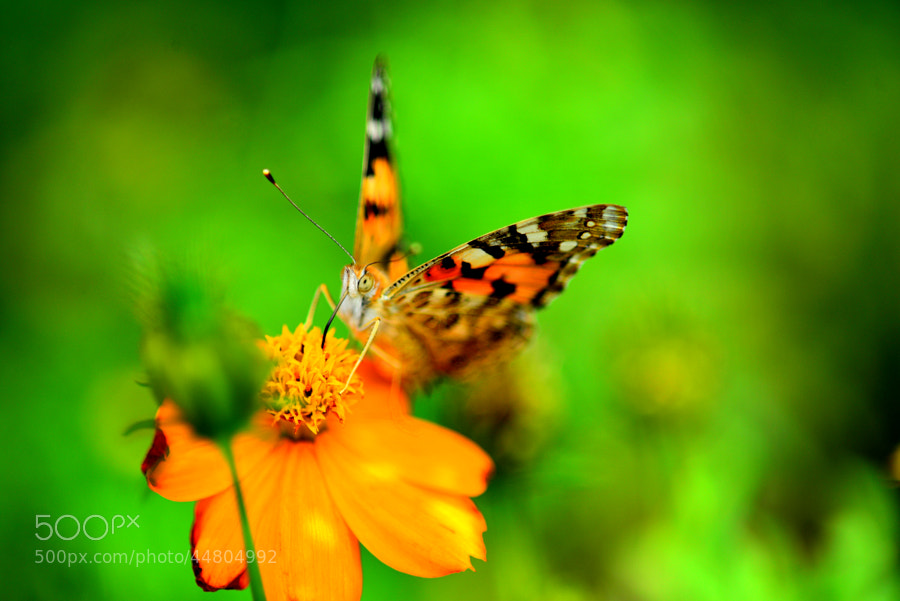Argyreus hyperbius: (269, 45, 633, 403)
butterfly: (271, 47, 635, 405)
